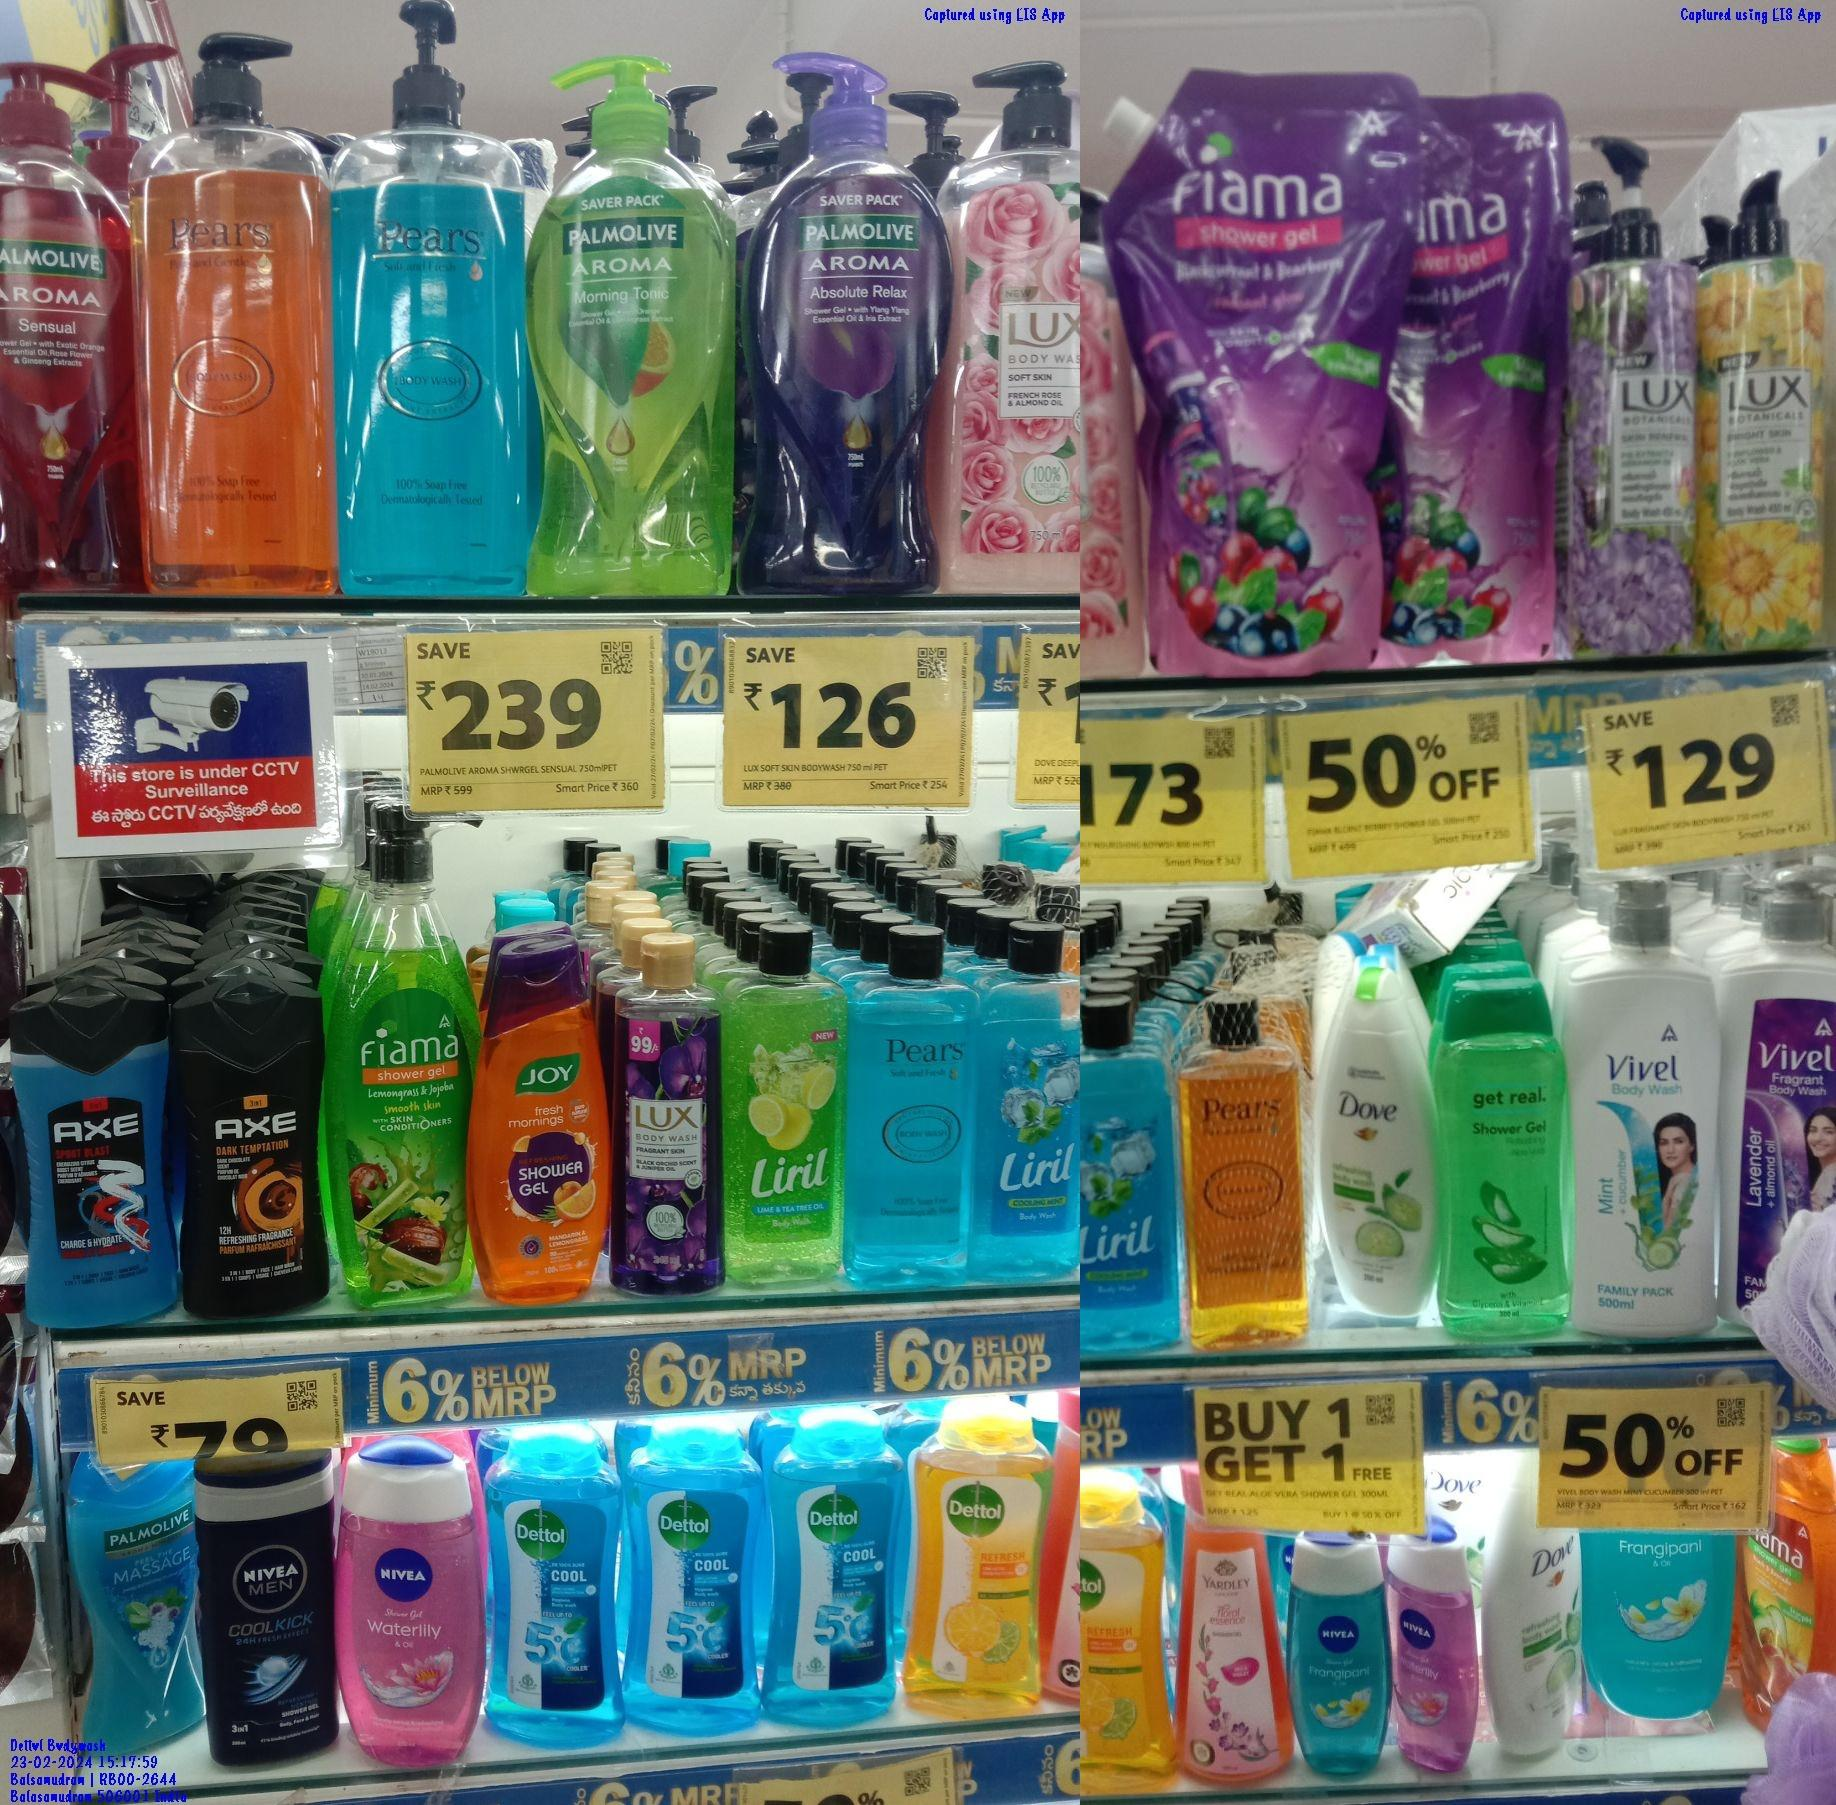Dettol_Bodywash_Cool: (767, 1412, 899, 1727), (633, 1422, 762, 1742), (494, 1436, 623, 1749)
Dettol_Bodywash_Refresh: (909, 1397, 1049, 1721), (1089, 1468, 1172, 1787)
Dove_Refreshing_Body_Wash_250ML: (1314, 969, 1431, 1327)
Joy_Shower_Gel_Mandarin_and_Lemongrass_250ML: (478, 945, 603, 1306)
Liril_Cooling_Mint_Body_Wash_250ML: (1077, 992, 1187, 1355)
Liril_Lime_and_Tea_Tree_Oil_Body_Wash_250ML: (727, 916, 843, 1288)
Nivea_Shower_Gel_Waterlily_and_Oil_250ML: (337, 1448, 476, 1770)
Palmolive_Aroma_Moments_Feel_The_Massage_Shower_Gel_250ML: (74, 1445, 200, 1749)
Pears_Pure_Glycerin_and_Mint_Extracts_Body_Wash_250ML: (849, 931, 968, 1284)
